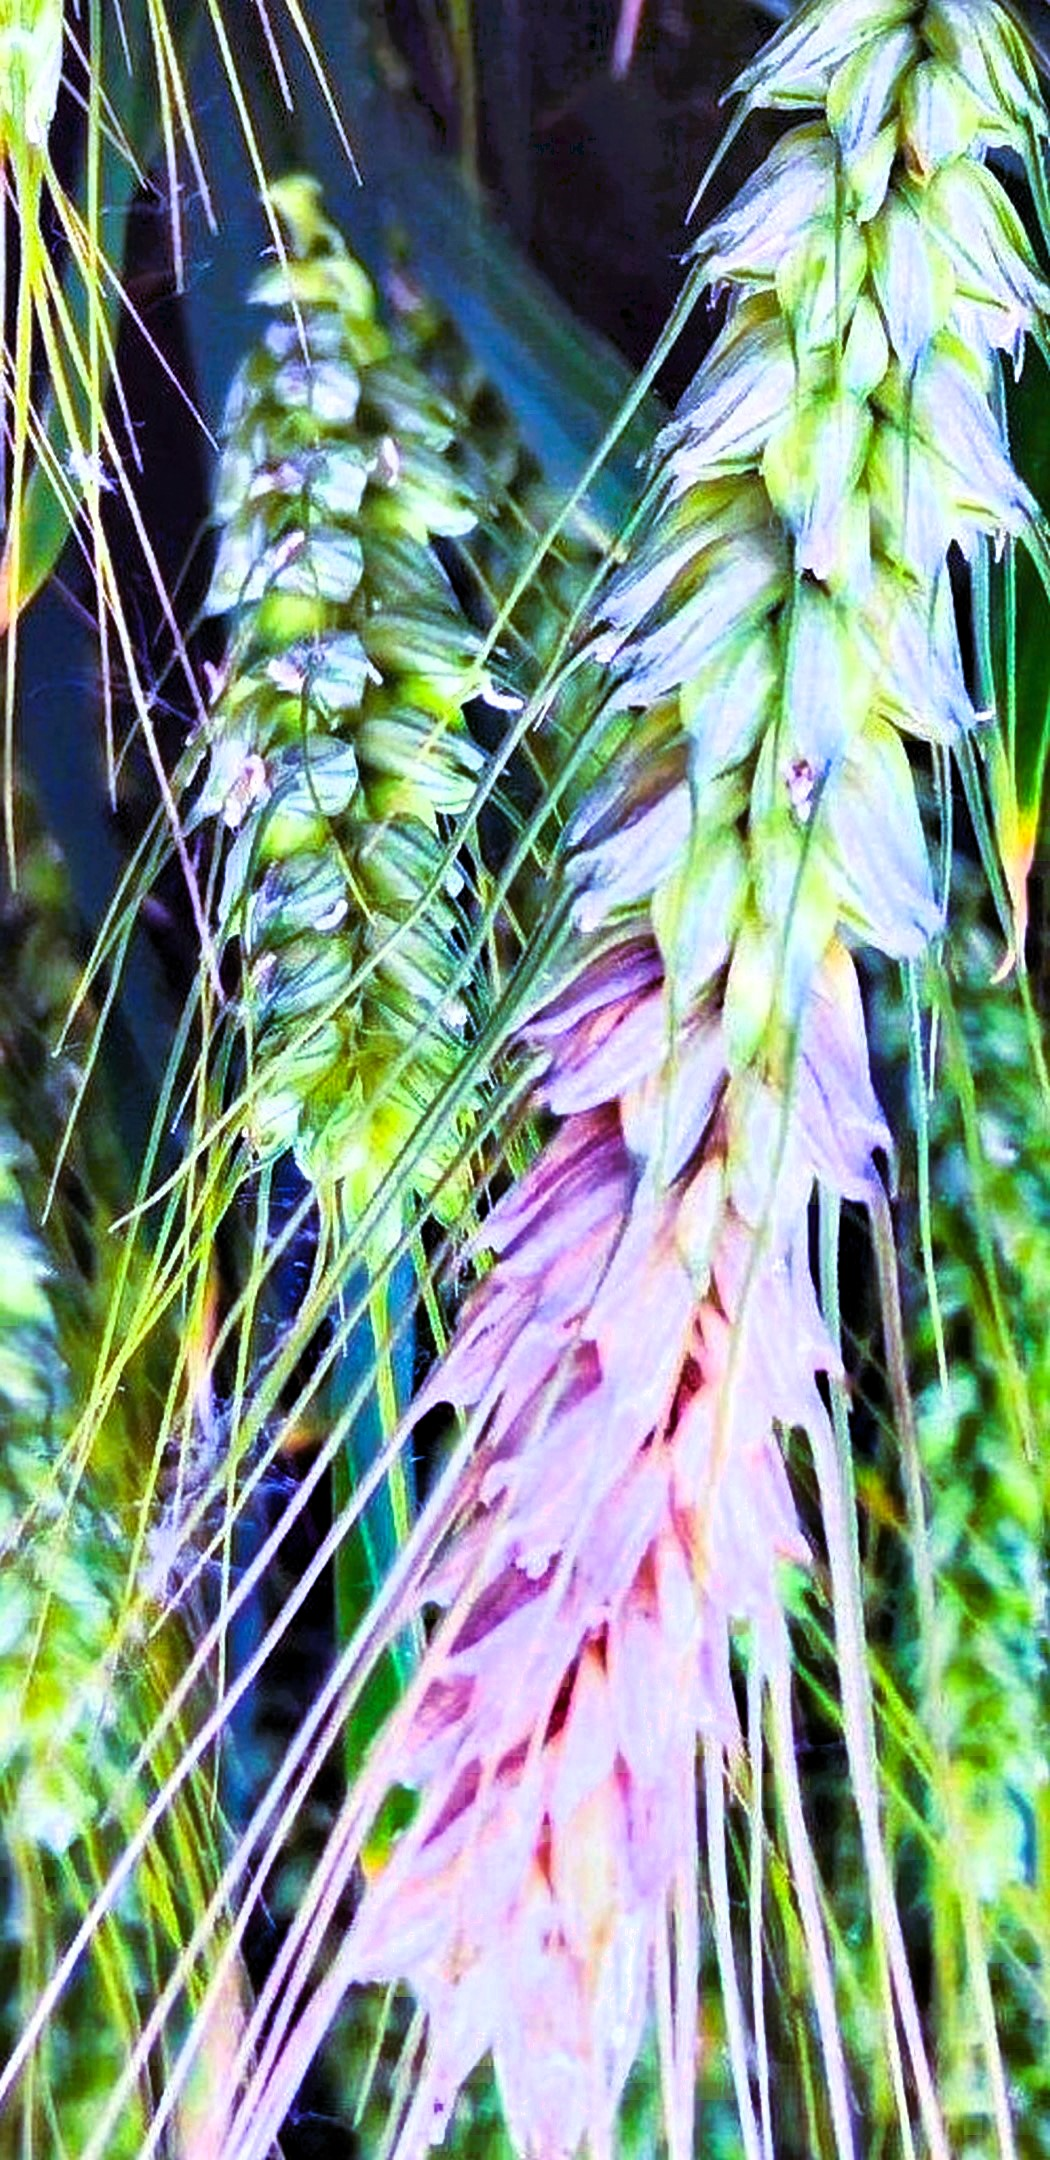Wheat scab: (477, 87, 1035, 1663)
